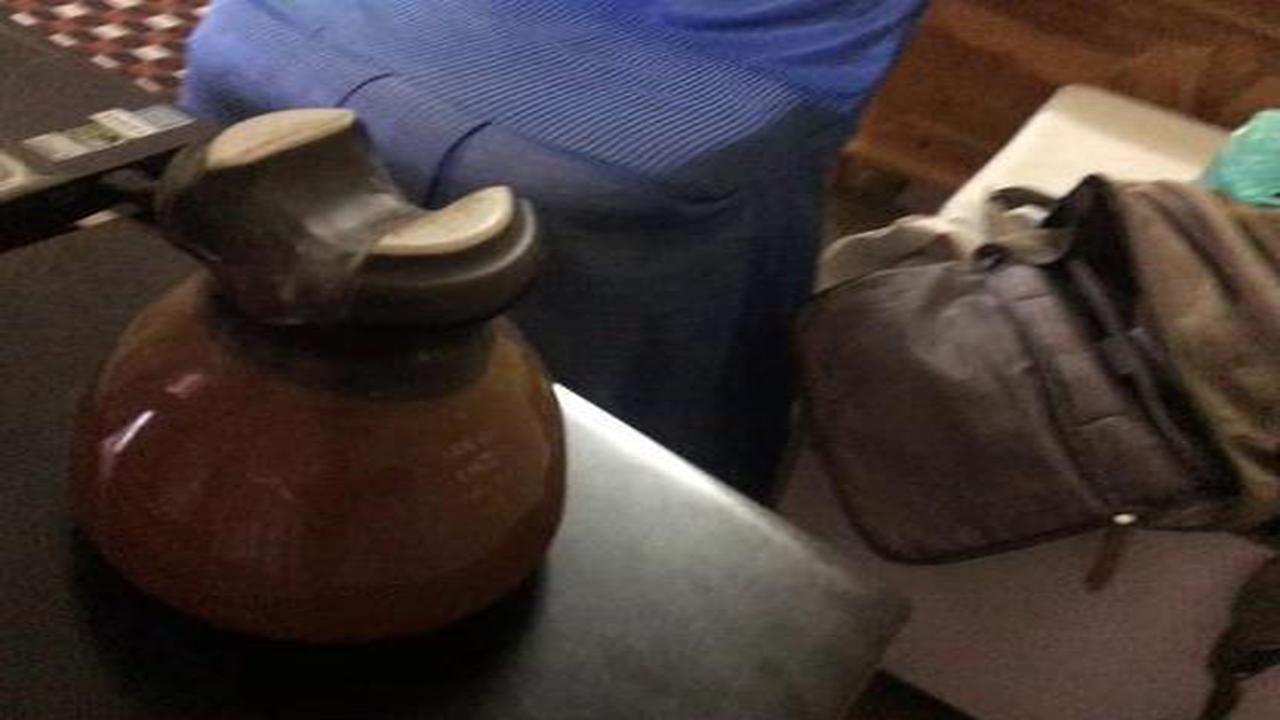insulator_pin: (59, 87, 591, 662)
